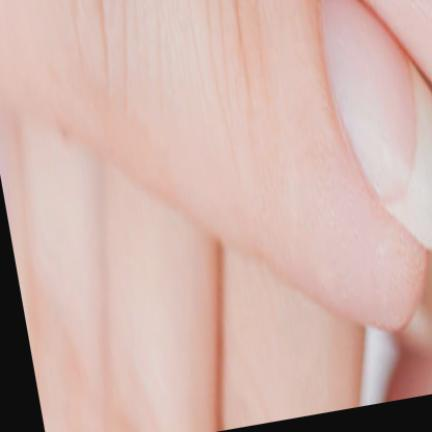Nail: (320, 0, 431, 251)
